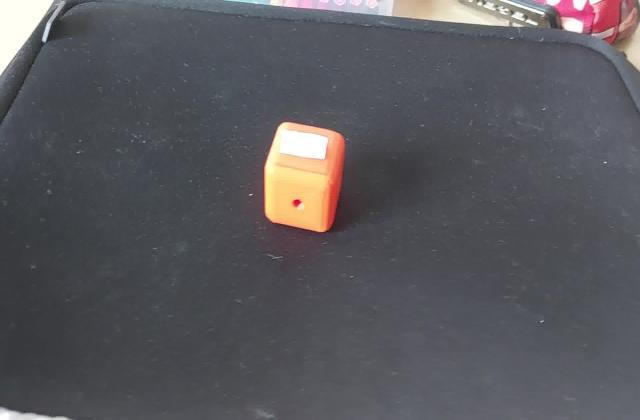cube: (261, 116, 351, 238)
white: (282, 129, 334, 164)
